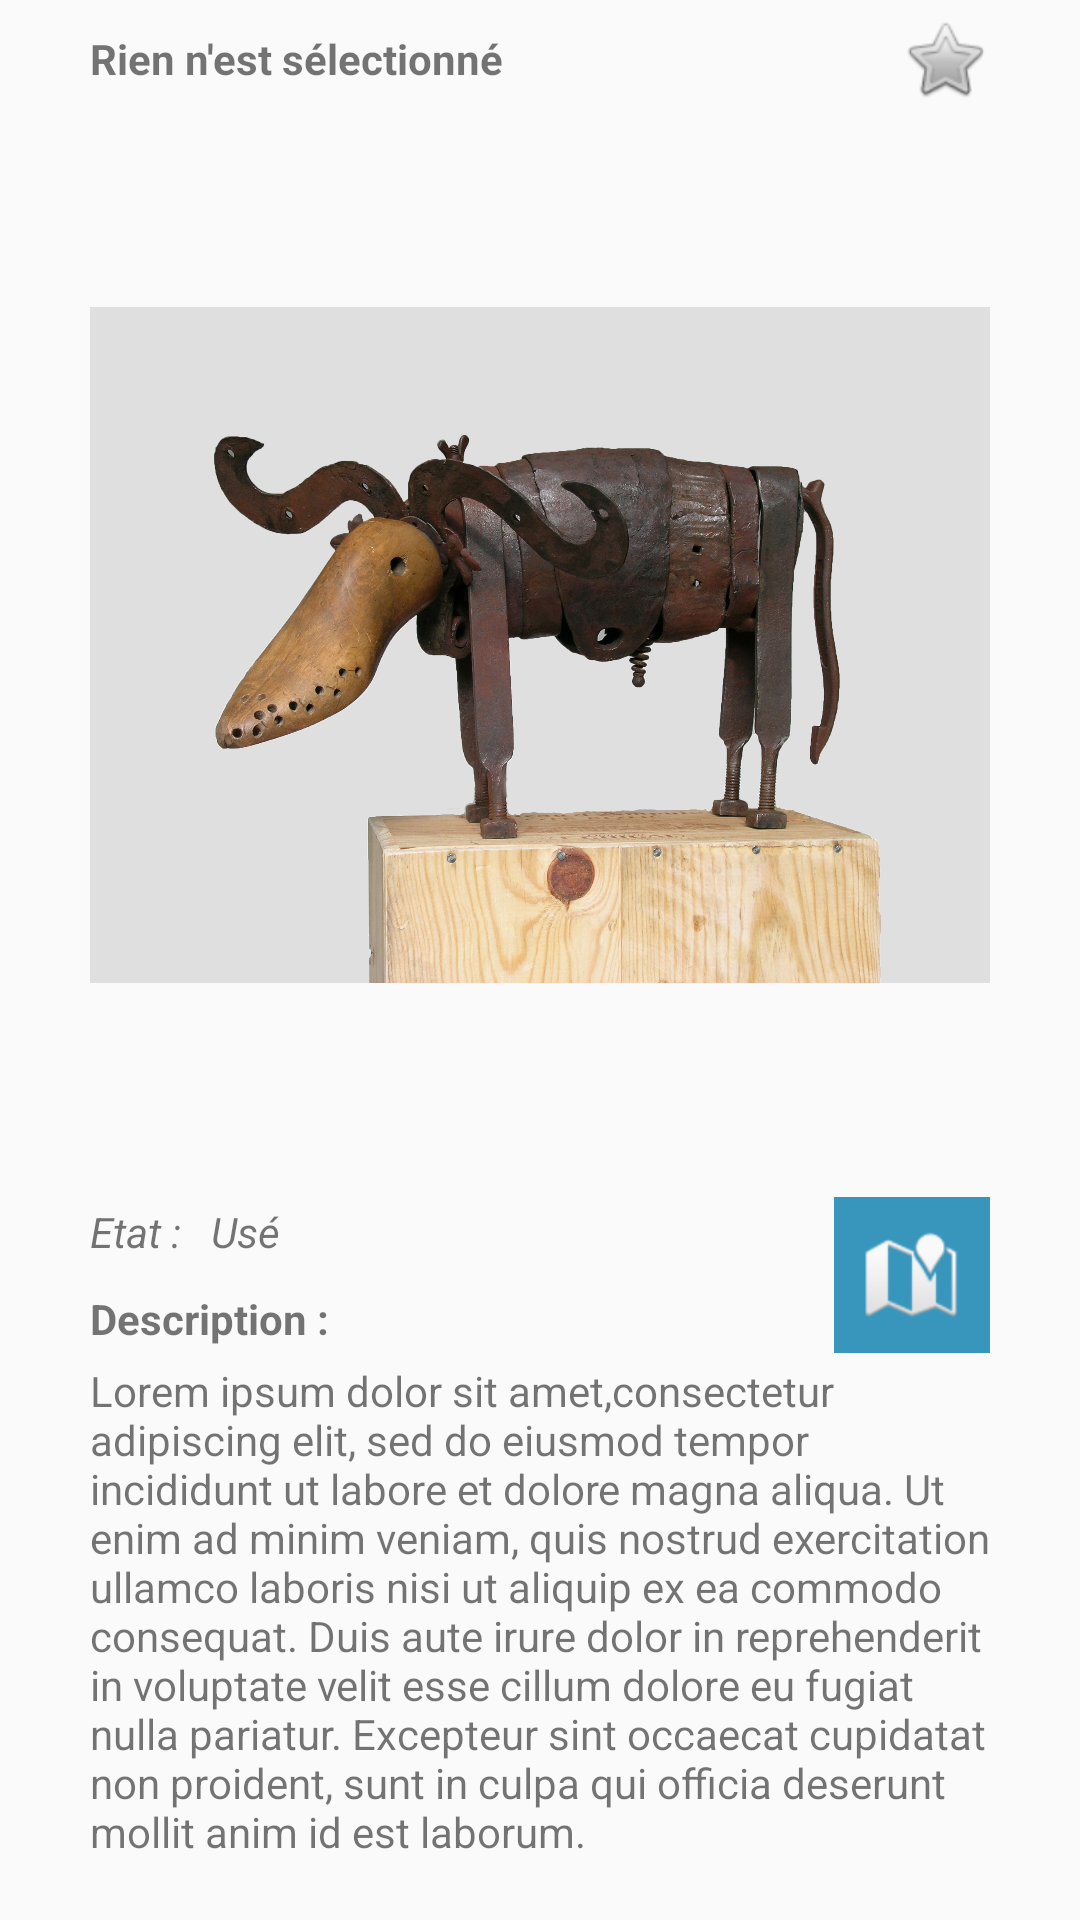

Named icons in this screenshot (1080×1920) and their centers, (x,y):
map: (912,1275)
